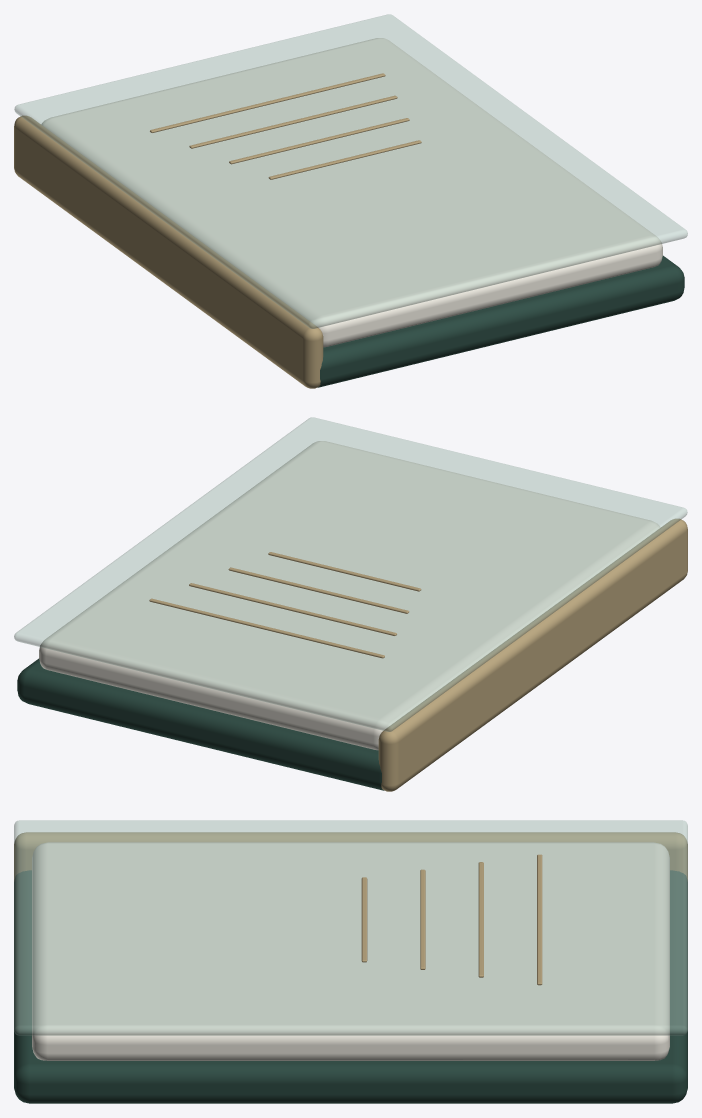
File: folio.glb
The picture shows the model from 3 angles, top to bottom: view 1: azimuth 30°, elevation 25°; view 2: azimuth 150°, elevation 25°; view 3: azimuth 270°, elevation 25°; orthographic projection. The views are drawn at different scales.
Visible parts, largest first — view 1: folio; view 2: folio; view 3: folio.
Boxes of the visible parts, bbox=[...] form: folio: bbox=[14, 14, 687, 388]; folio: bbox=[14, 417, 687, 791]; folio: bbox=[14, 820, 687, 1103].
Bounding box in the file's own units: 1.11 × 0.2105 × 1.5.
